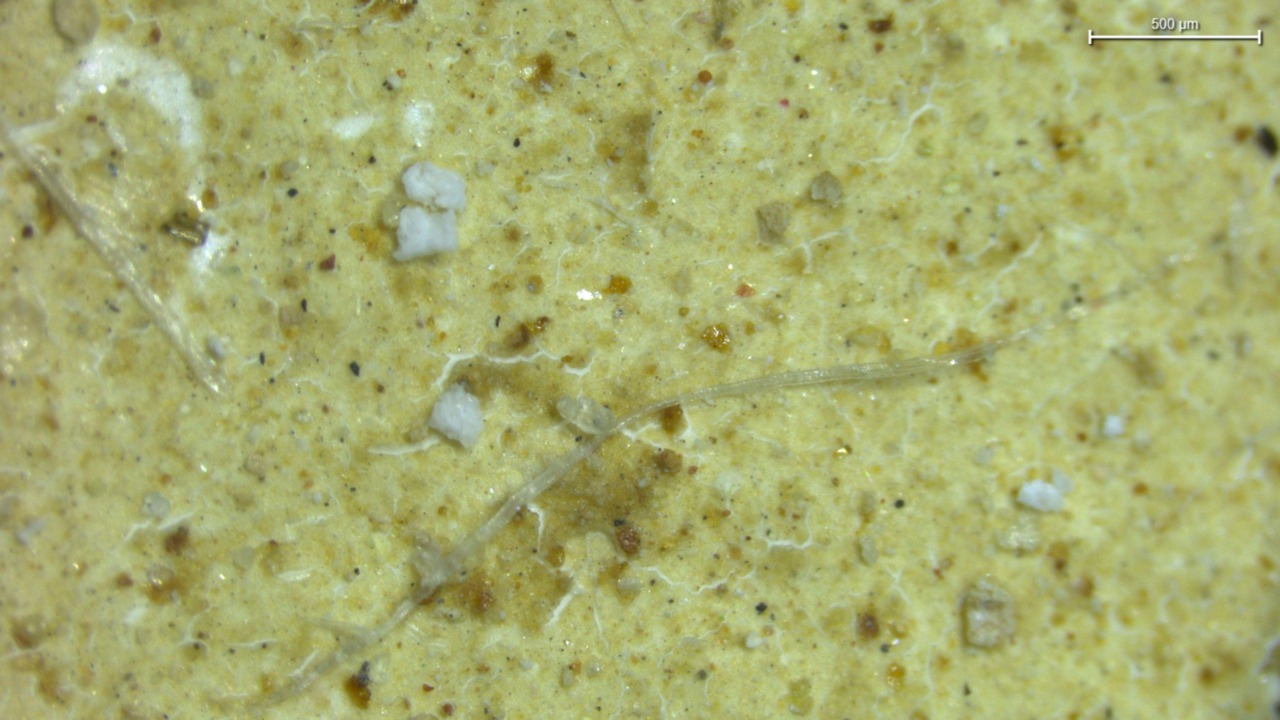microplastic_fragment: (962, 578, 1016, 647), (428, 383, 483, 448), (393, 206, 457, 260), (402, 161, 466, 211), (1017, 479, 1064, 512)
